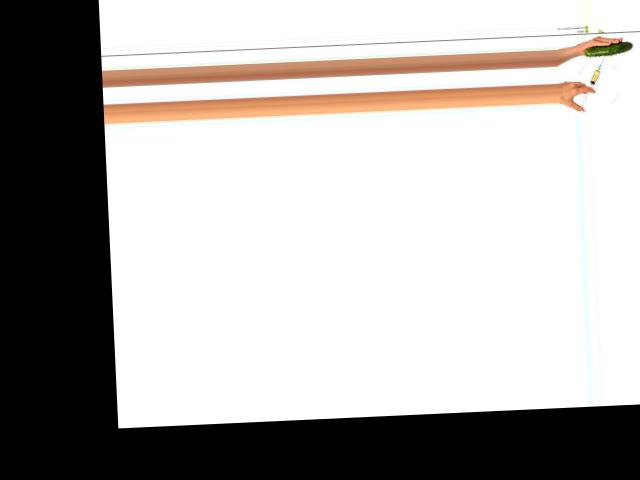cucumber: (583, 41, 632, 56)
